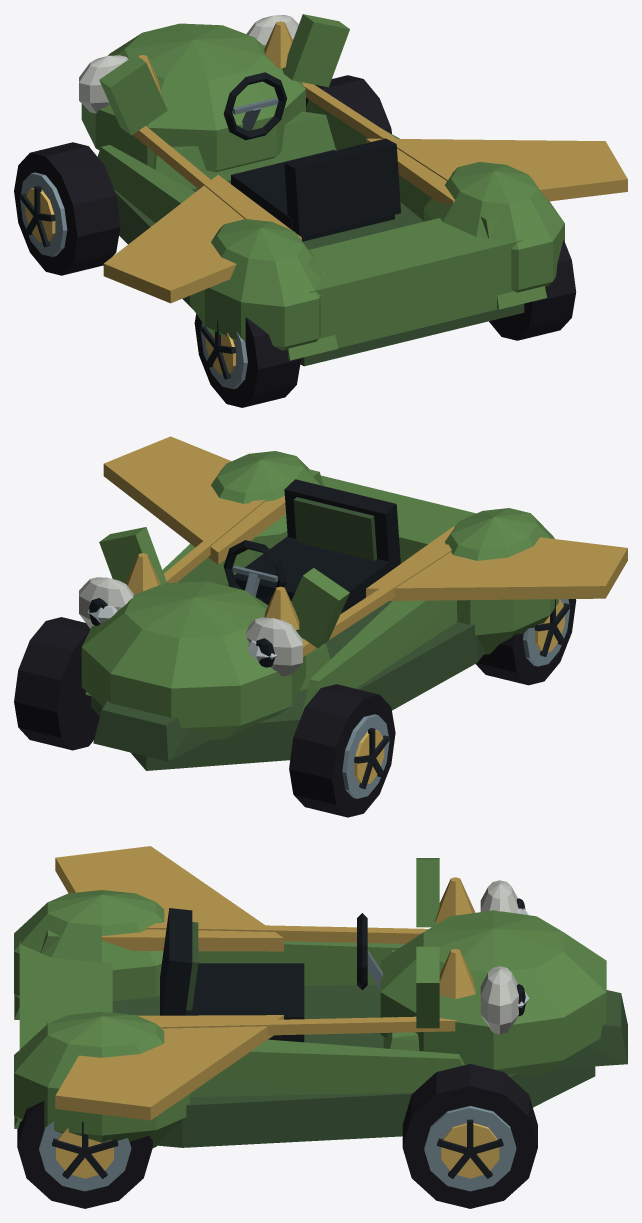
Rendered from kart.glb.
3 views of the same model, one above another, from view 1: azimuth 30°, elevation 25°; view 2: azimuth 150°, elevation 25°; view 3: azimuth 270°, elevation 25° (orthographic). The views are drawn at different scales.
Parts seen in each view (by area): view 1: identity-beast-beast-sculpted-prow-and-haunches, identity-beast-motif-wings, identity-beast-driver-cockpit, wheel-front-left, wheel-rear-left, wheel-rear-right, identity-beast-motif-eyes, wheel-front-right; view 2: identity-beast-beast-sculpted-prow-and-haunches, identity-beast-motif-wings, identity-beast-driver-cockpit, wheel-front-left, wheel-front-right, wheel-rear-left, identity-beast-motif-eyes; view 3: identity-beast-beast-sculpted-prow-and-haunches, identity-beast-motif-wings, wheel-front-right, identity-beast-driver-cockpit, wheel-rear-right, identity-beast-motif-eyes.
Boxes of the visible parts, bbox=[...] form: identity-beast-beast-sculpted-prow-and-haunches: bbox=[81, 14, 564, 366]; identity-beast-motif-wings: bbox=[103, 138, 627, 303]; identity-beast-driver-cockpit: bbox=[223, 72, 400, 241]; wheel-front-left: bbox=[14, 142, 120, 275]; wheel-rear-left: bbox=[194, 314, 300, 407]; wheel-rear-right: bbox=[489, 239, 576, 340]; identity-beast-motif-eyes: bbox=[79, 15, 298, 113]; wheel-front-right: bbox=[306, 75, 391, 133]; identity-beast-beast-sculpted-prow-and-haunches: bbox=[81, 451, 560, 770]; identity-beast-motif-wings: bbox=[103, 436, 627, 600]; identity-beast-driver-cockpit: bbox=[223, 479, 400, 613]; wheel-front-left: bbox=[289, 684, 395, 817]; wheel-front-right: bbox=[14, 617, 99, 750]; wheel-rear-left: bbox=[476, 599, 576, 685]; identity-beast-motif-eyes: bbox=[79, 577, 302, 676]; identity-beast-beast-sculpted-prow-and-haunches: bbox=[14, 858, 627, 1147]; identity-beast-motif-wings: bbox=[55, 846, 283, 1120]; wheel-front-right: bbox=[402, 1064, 537, 1208]; identity-beast-driver-cockpit: bbox=[160, 908, 382, 1042]; wheel-rear-right: bbox=[17, 1101, 152, 1208]; identity-beast-motif-eyes: bbox=[480, 880, 525, 1034].
Size of the model in its own units: 2.92 by 1.16 by 2.9.
